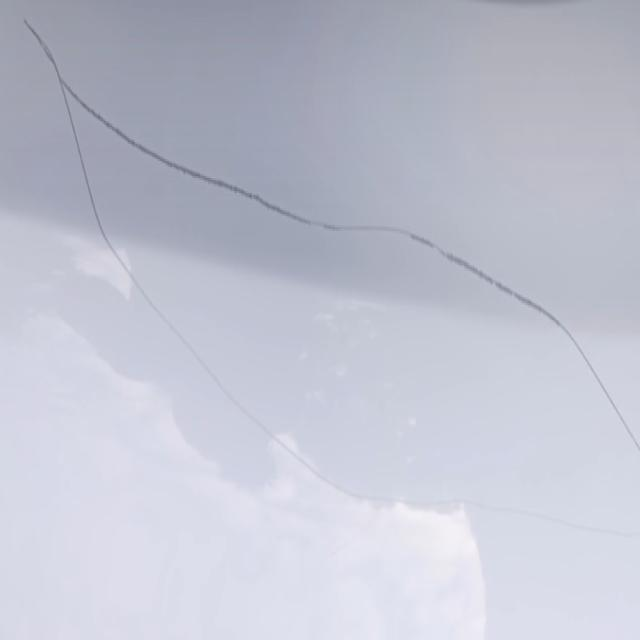crack: (93, 229, 520, 563), (106, 63, 560, 336)
